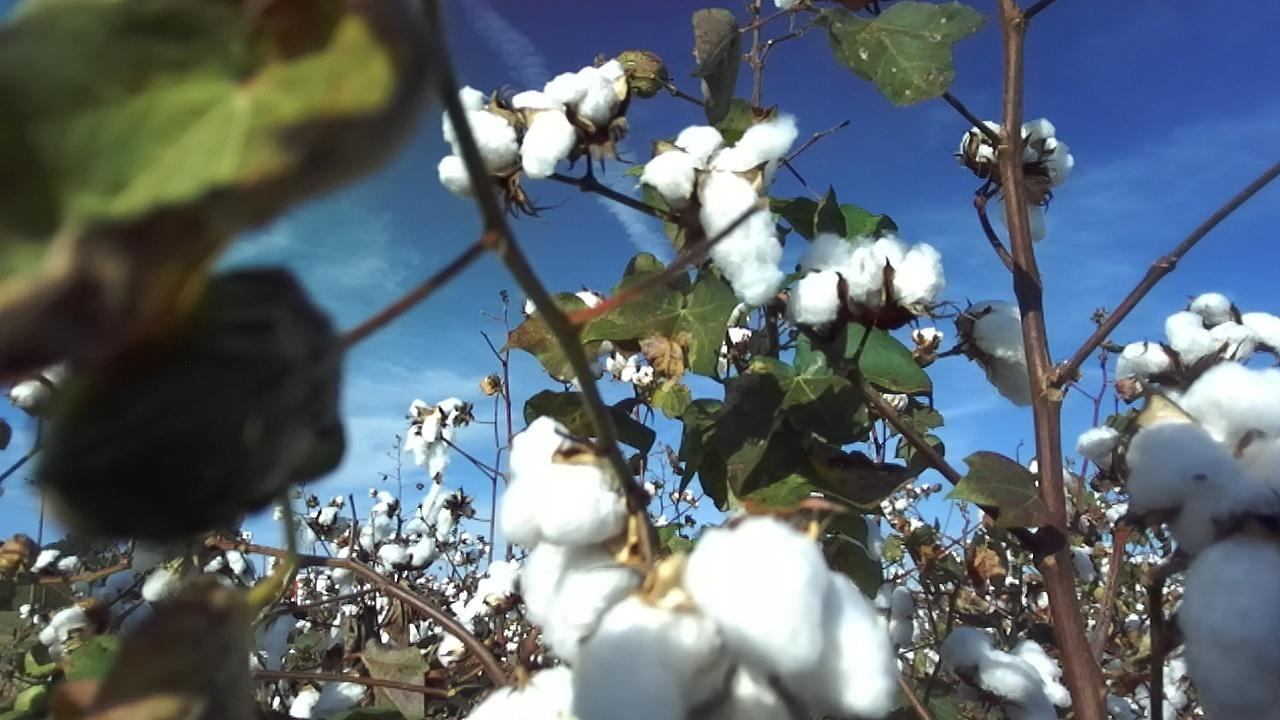cotton_ready: (572, 515, 897, 720), (641, 122, 802, 301), (1128, 364, 1280, 550), (1181, 537, 1280, 720), (499, 417, 625, 545), (524, 539, 644, 666), (961, 119, 1074, 245), (1114, 293, 1280, 377), (796, 235, 944, 326), (944, 629, 1068, 720), (515, 65, 612, 181), (441, 85, 519, 190), (964, 297, 1037, 407), (524, 292, 607, 379), (464, 664, 573, 720), (105, 547, 172, 628), (401, 397, 465, 473), (285, 672, 372, 720), (245, 597, 299, 670), (475, 557, 525, 612), (1082, 424, 1122, 479)
